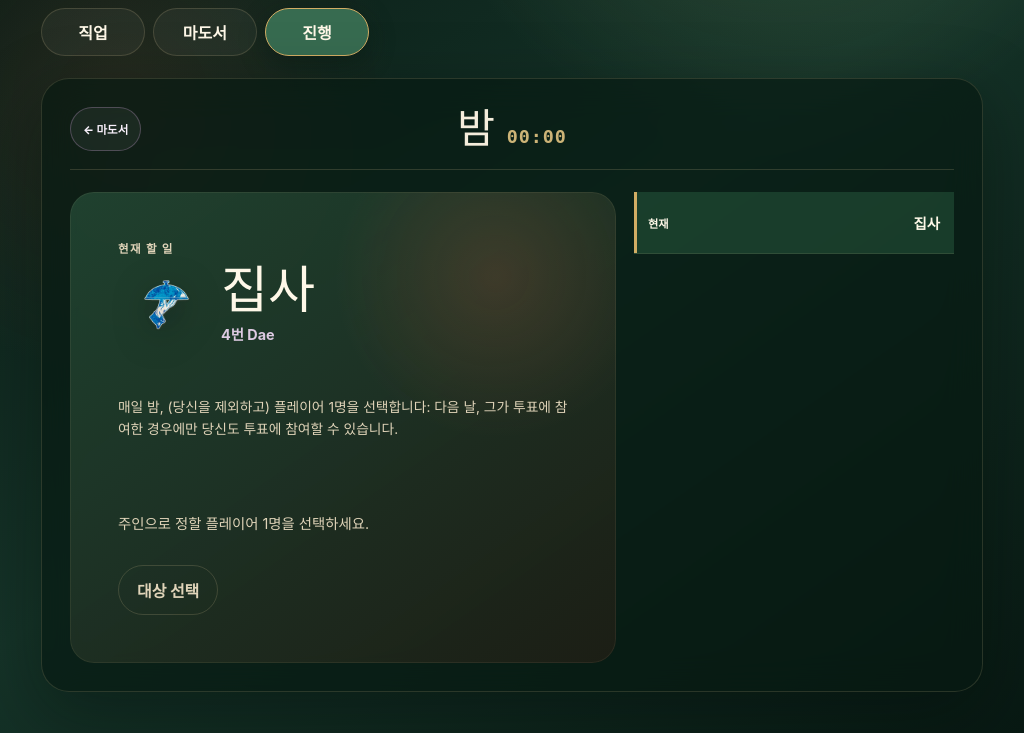
Scenario: uses semantic labels for the butler target
The image size is (1024, 733).
(page scrolled)
Click the button "대상 선택": (168,590) left=118, top=565, right=218, bottom=615
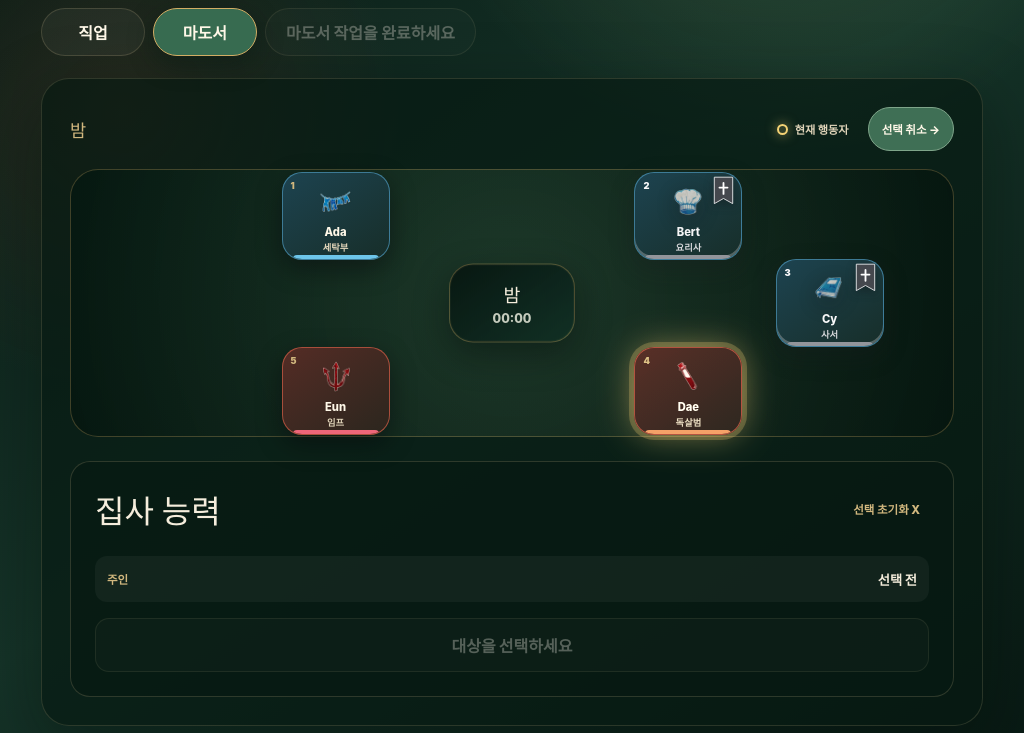
Click the button with aria-label "1번 좌석, Ada": (336,216) left=282, top=172, right=390, bottom=260
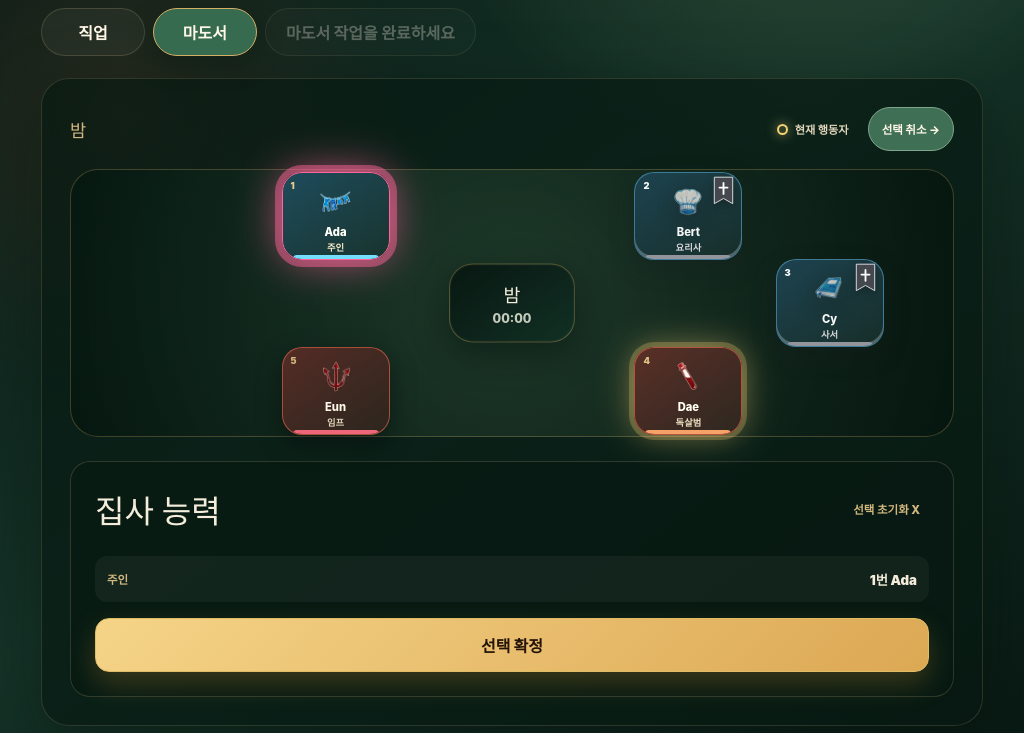
Expected: the heading "집사 능력" is shown, left=95, top=486, right=221, bottom=532
Expected: the text "주인" in the row of "1번 Ada" is shown, left=107, top=573, right=128, bottom=587
Expected: the 1st text "주인" is shown, left=327, top=242, right=344, bottom=253
